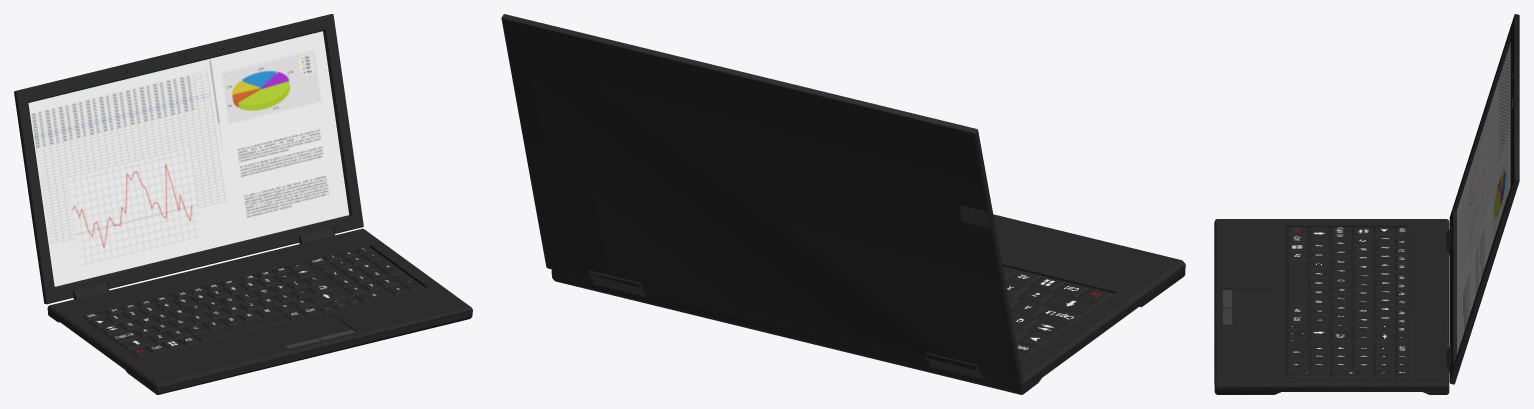
Rendered from Laptop 1.FBX.
3 renders of one model, left to right at view 1: azimuth 30°, elevation 25°; view 2: azimuth 150°, elevation 25°; view 3: azimuth 270°, elevation 25°, orthographic. The views are drawn at different scales.
Parts seen in each view (by area): view 1: Laptop 1; view 2: Laptop 1; view 3: Laptop 1.
Part boxes in pixels (left/top/right/bottom): Laptop 1: left=14, top=14, right=472, bottom=394; Laptop 1: left=501, top=14, right=1185, bottom=394; Laptop 1: left=1214, top=14, right=1519, bottom=394.
Bounding box in the file's own units: 46.54 × 28.26 × 36.11.
2 materials, 2 textured.
